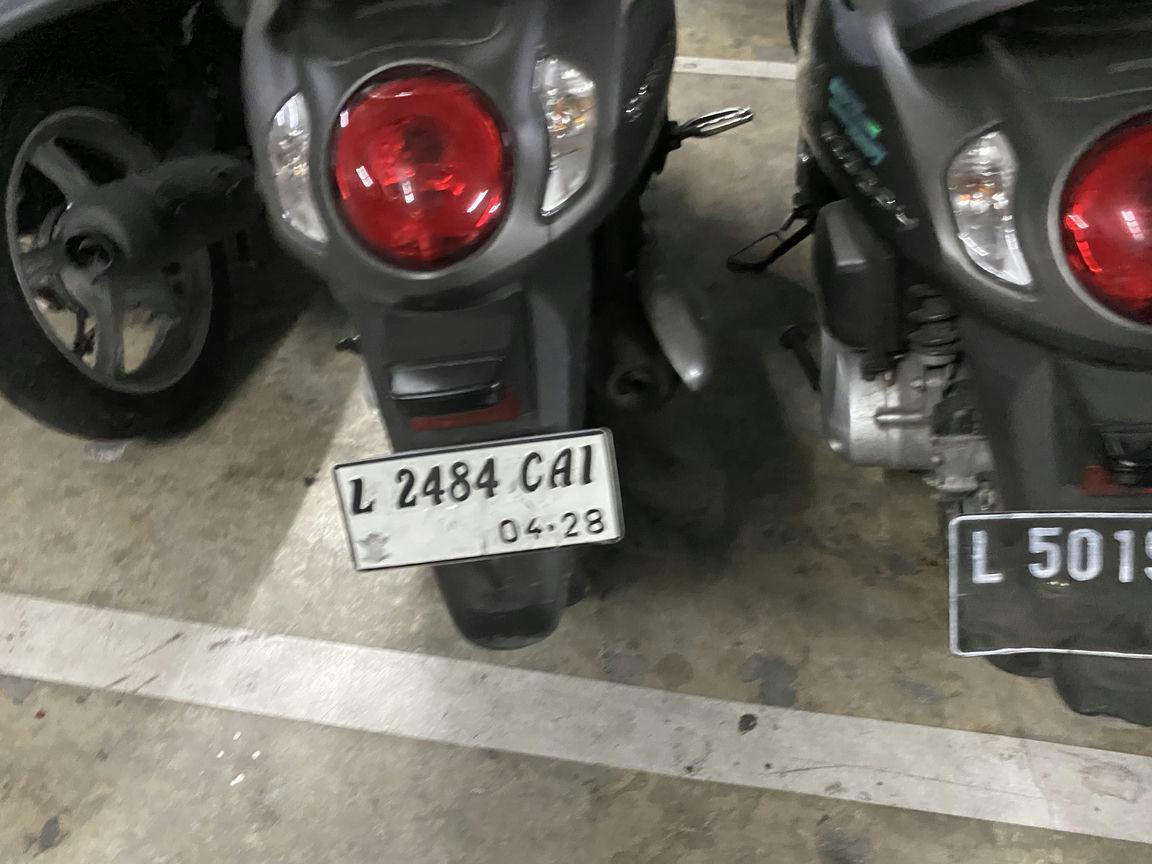plat: (335, 430, 623, 569)
